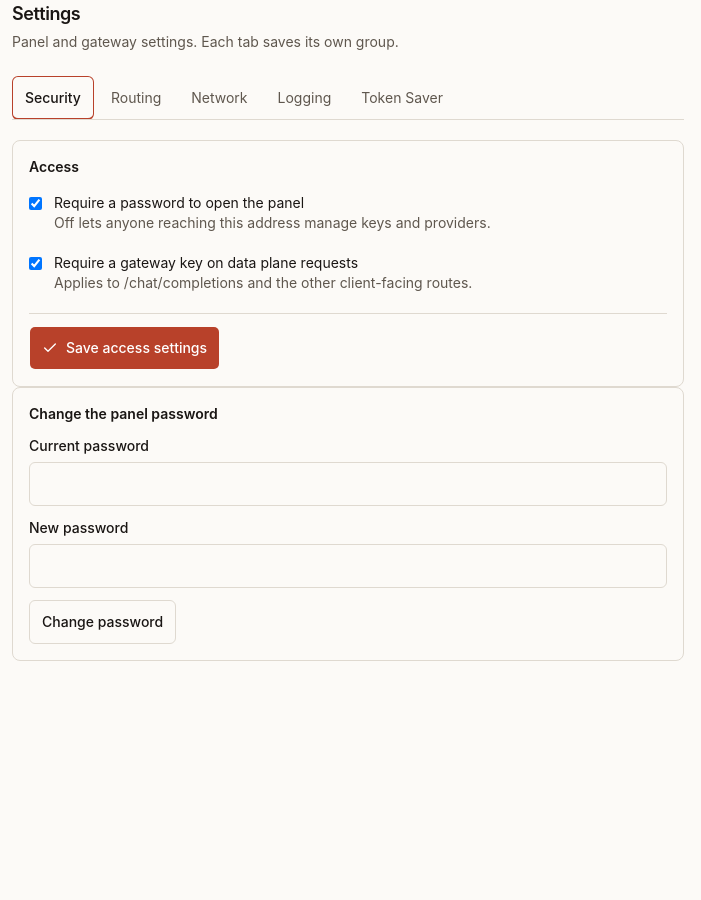
Scenario: the routing tab key-park windows › shows the windows the gateway stored
Expected: the element showing "Security Routing Network Logging Token Saver" is shown, [12, 76, 684, 120]
Step 1. Click the tab "Routing" → (136, 98), box [98, 76, 174, 120]
(page scrolled)
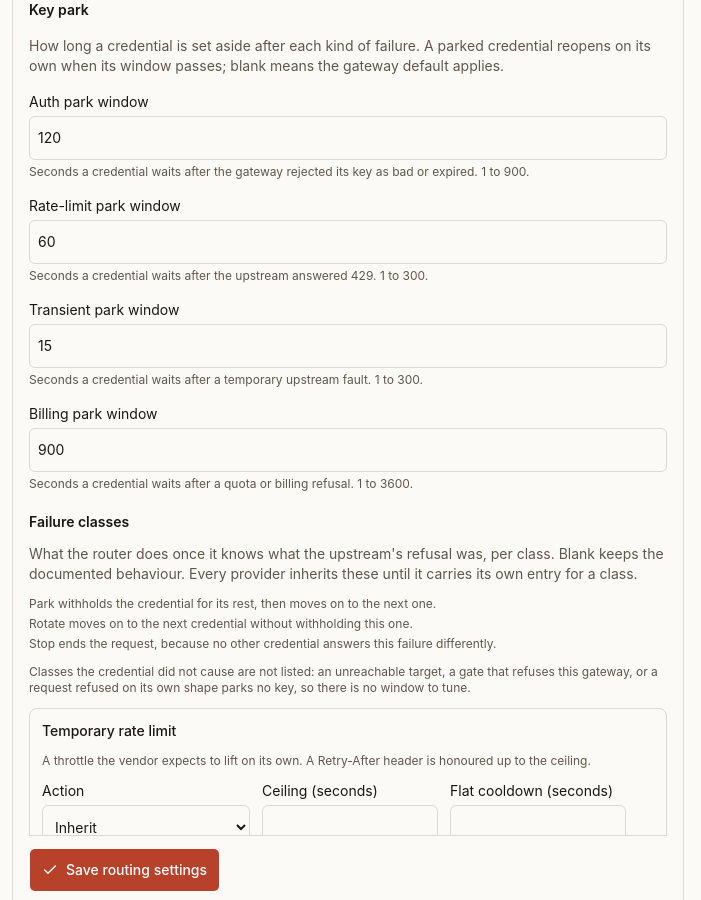
Now the number field labelled "Auth park window" holds "120", box [29, 116, 667, 160]
Now the number field labelled "Billing park window" holds "900", box [29, 428, 667, 472]
